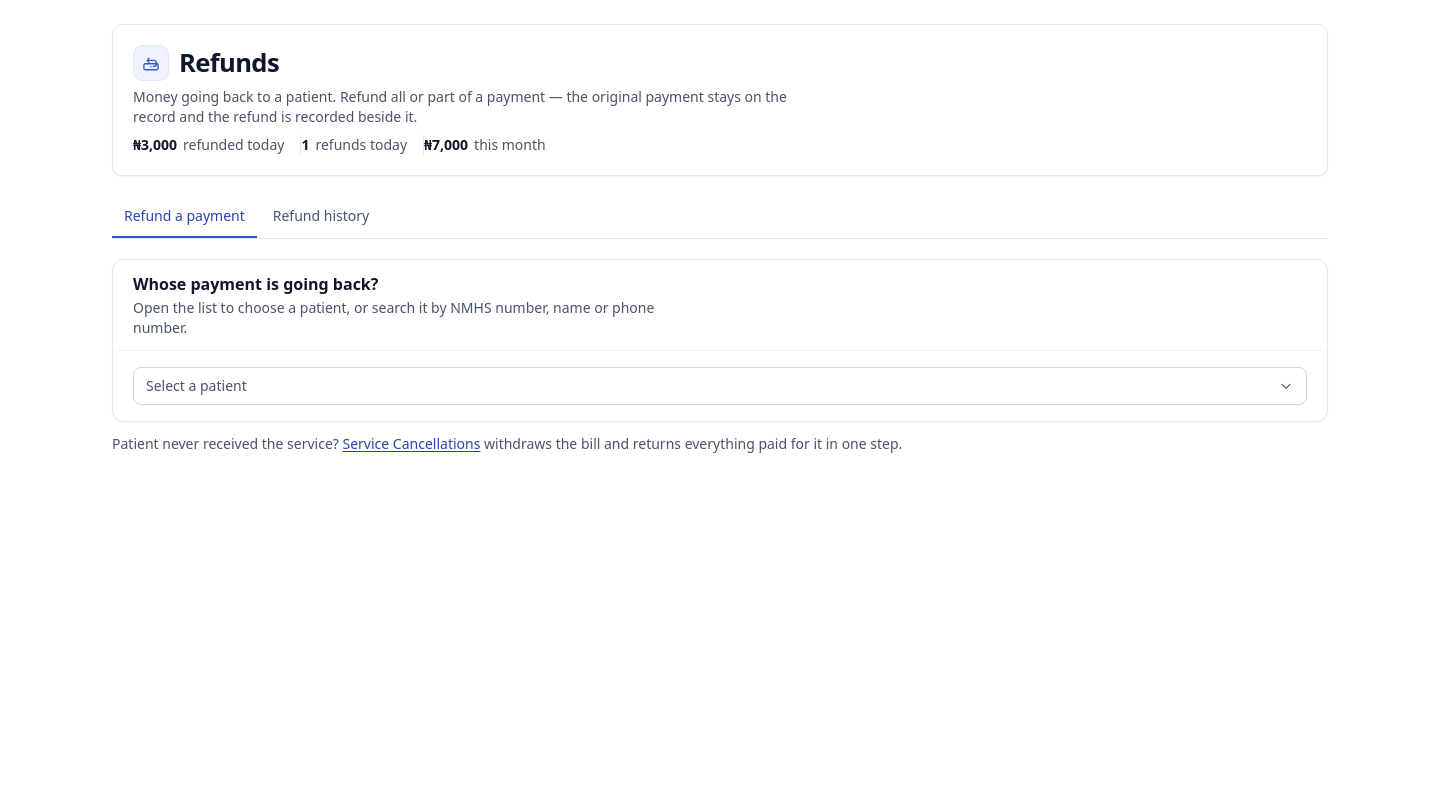
a patient's payments › shows the refunds already made to the patient
Click the button "Select a patient" at [196, 386], box [133,367,1307,405]
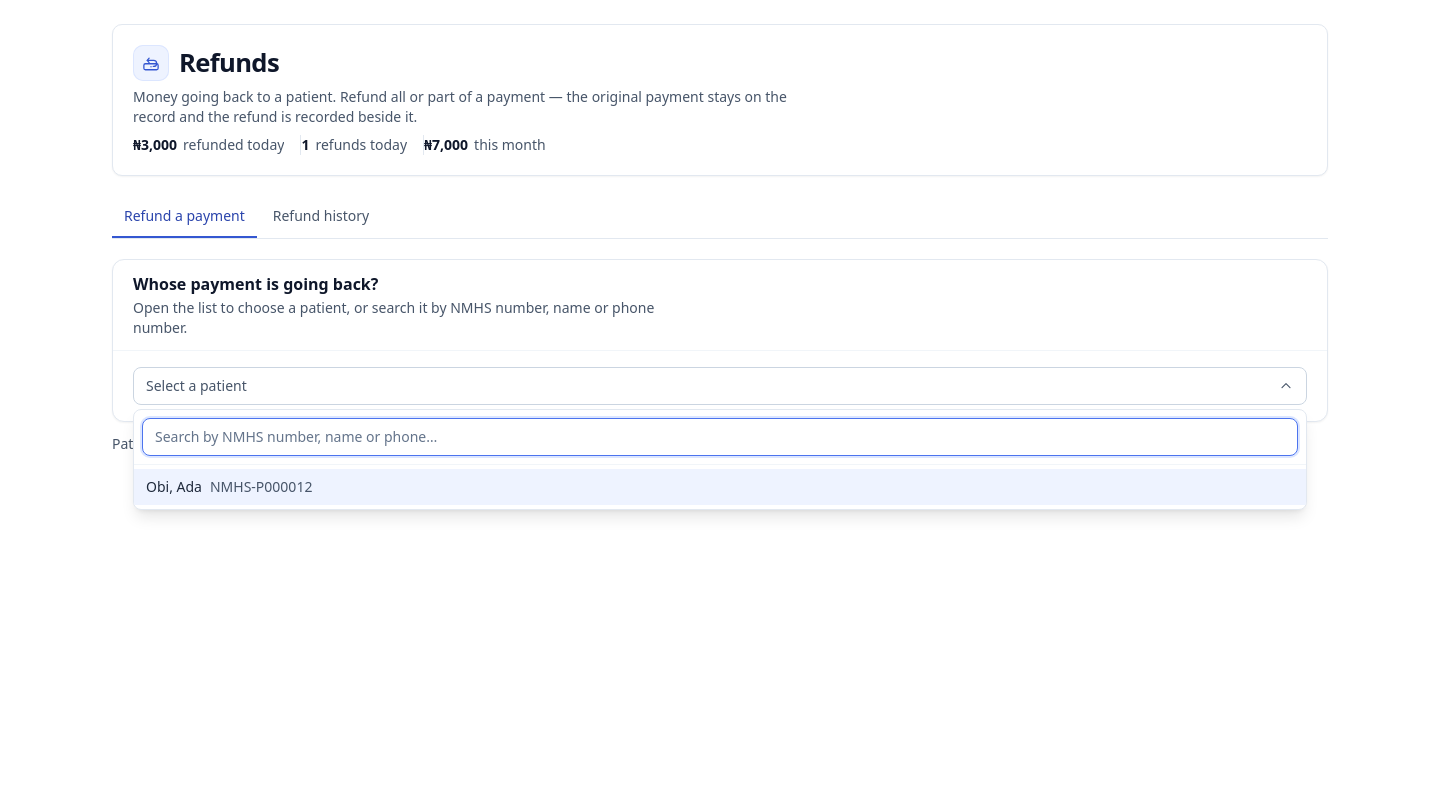
Click the option "Obi, Ada" at [174, 486], box [134,469,1306,505]
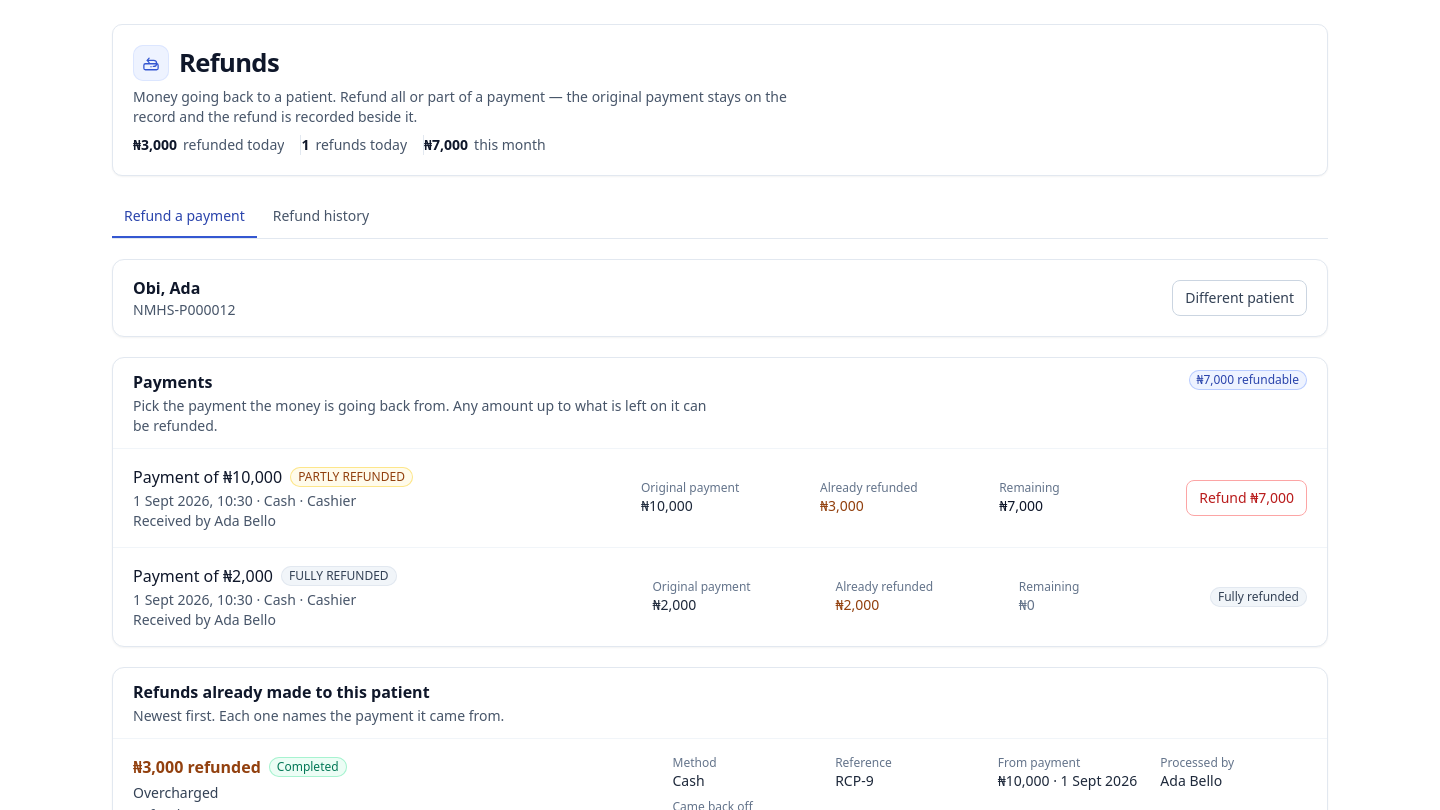
Result: the text "₦3,000 refunded" is shown at [133,755,261,779]
Result: the text "Overcharged" is shown at [133,783,218,802]
